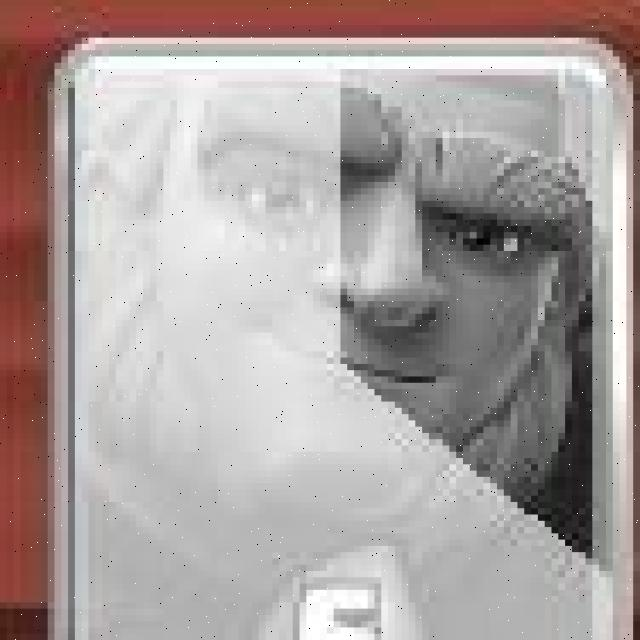Giant: (51, 42, 632, 640)
